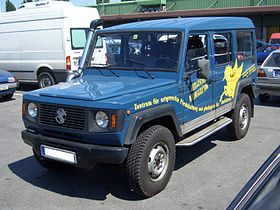Vehicle: (23, 15, 258, 161)
